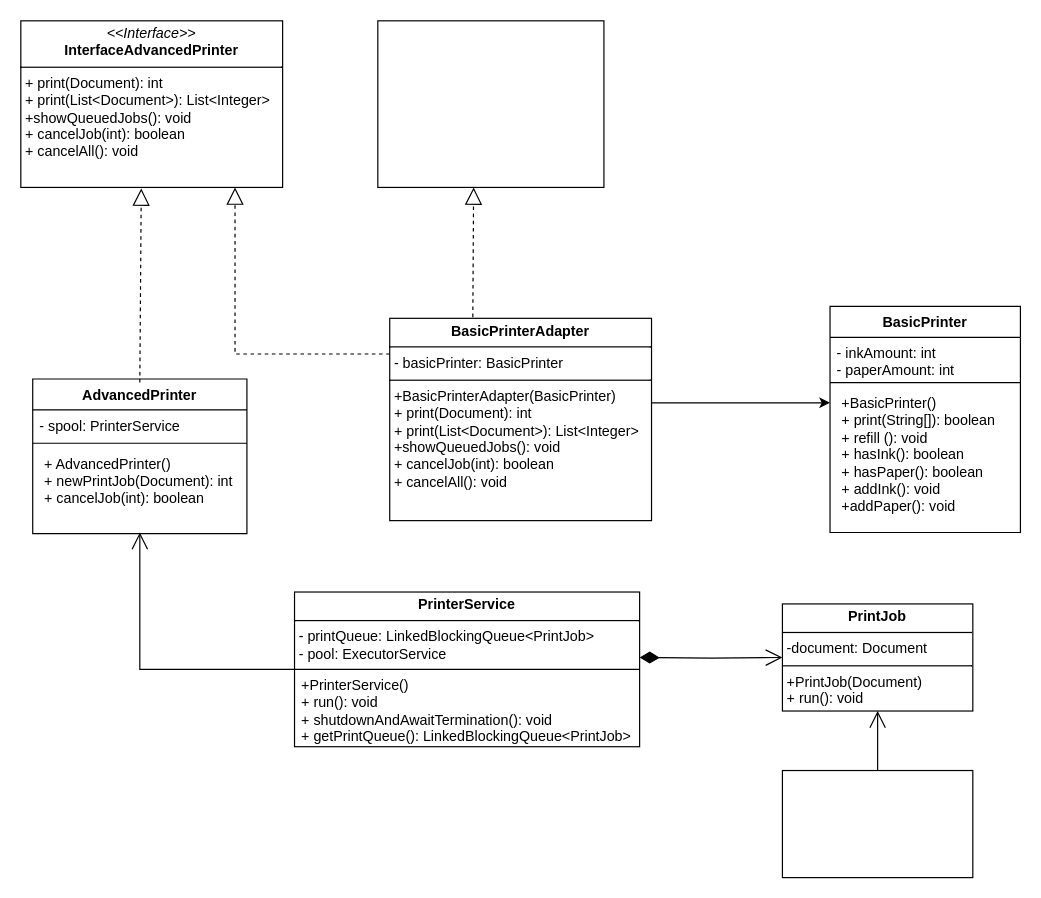
Some shapes in this 1041 by 898 pixel diagram are drawn without their labels. Here are the shapes that lost their labels. From the top down, the box of each, then its label:
(377, 20, 604, 187): <<Interface>> InterfaceBasicPrinter + print(String[]): boolean + refill (): void
(781, 769, 973, 878): Document + content: String + getContent(): String
